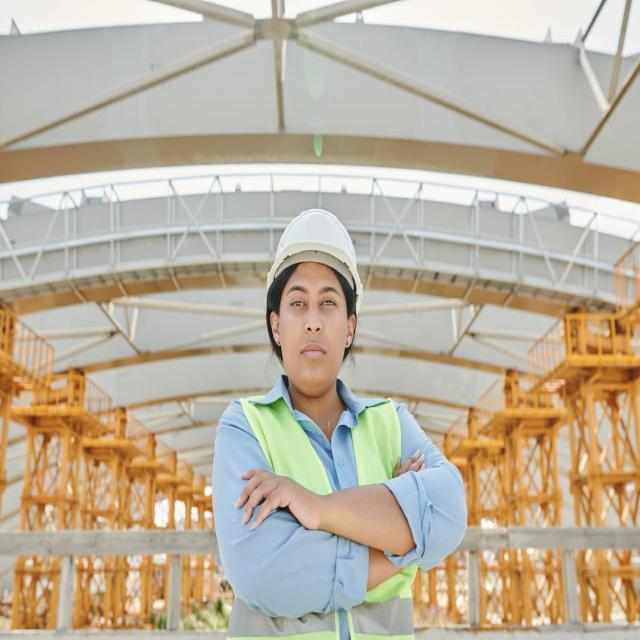helmet: (262, 206, 368, 317)
no-goggles: (267, 271, 367, 339)
vest: (225, 385, 420, 639)
